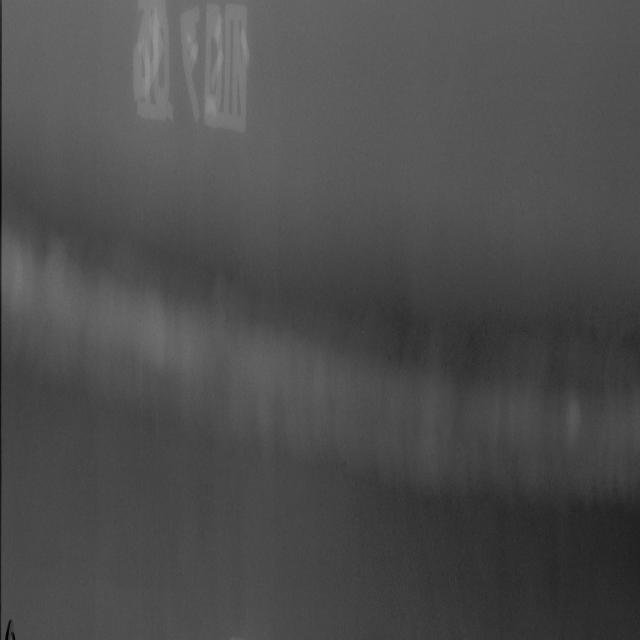FF: (535, 275, 640, 375)
